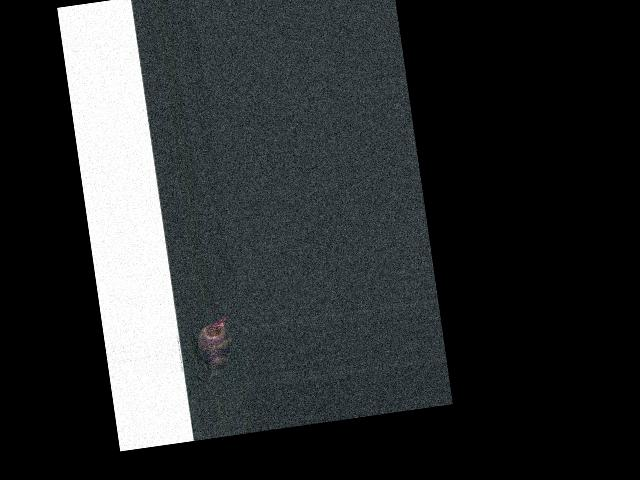beet: (187, 315, 236, 382)
